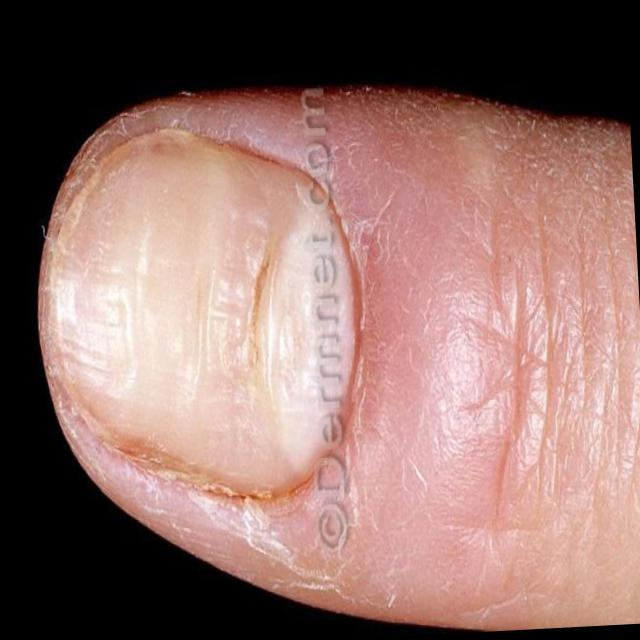Nail: (47, 123, 356, 502)
